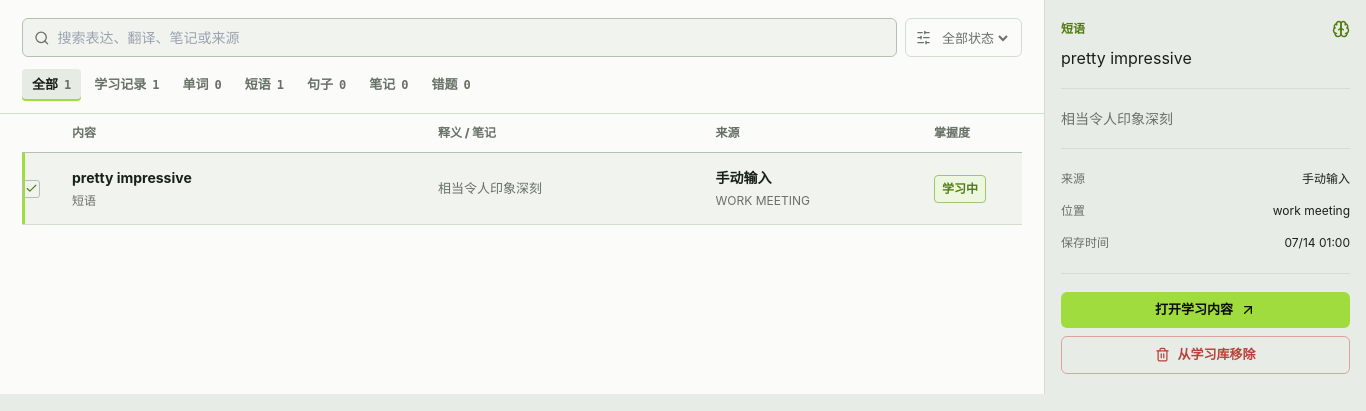
LearningLibraryPage › combines saved content, filters it, and opens the detail surface
Expected: the button "短语 1" is shown, x1=235 y1=69 x2=294 y2=101
Click the button "pretty impressive 短语 相当令人印象深刻 手动输入 work meeting 学习中": point(522, 189) x1=22 y1=153 x2=1022 y2=225
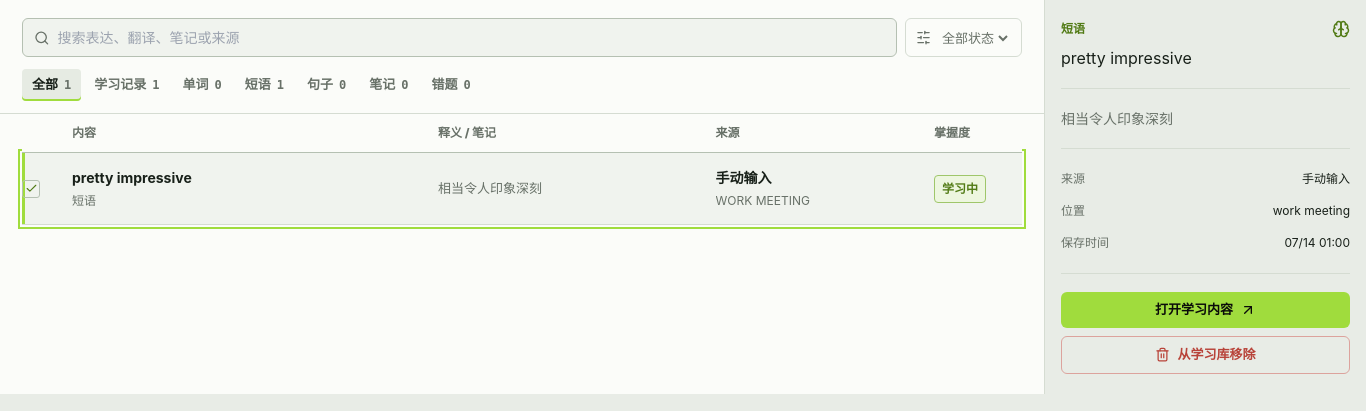
Expected: the heading "pretty impressive" is shown, x1=1061 y1=46 x2=1192 y2=70
Select "已掌握" in the dropdown named "筛选掌握度": point(974, 38) x1=938 y1=28 x2=1011 y2=46
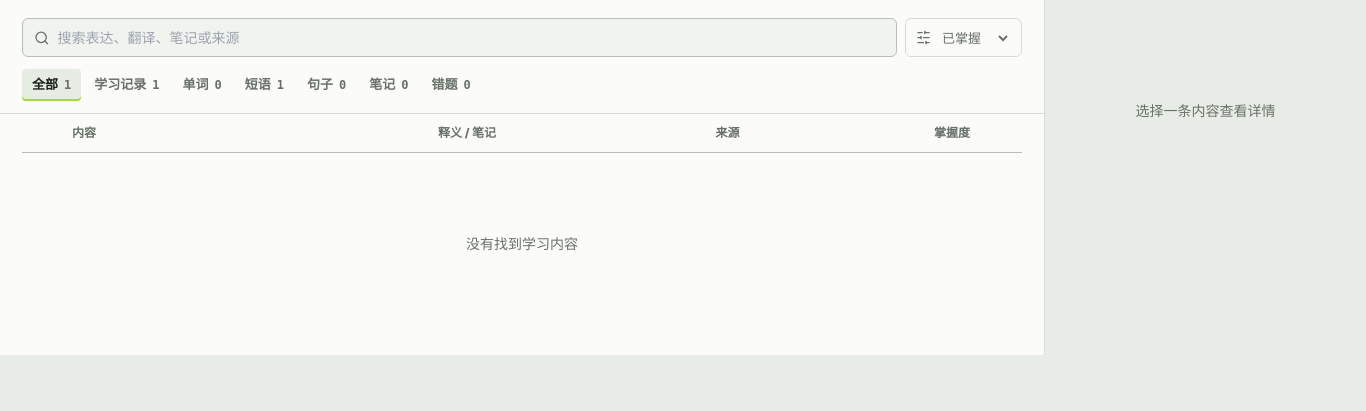
Expected: the text "没有找到学习内容" is shown, x1=466 y1=234 x2=578 y2=252
